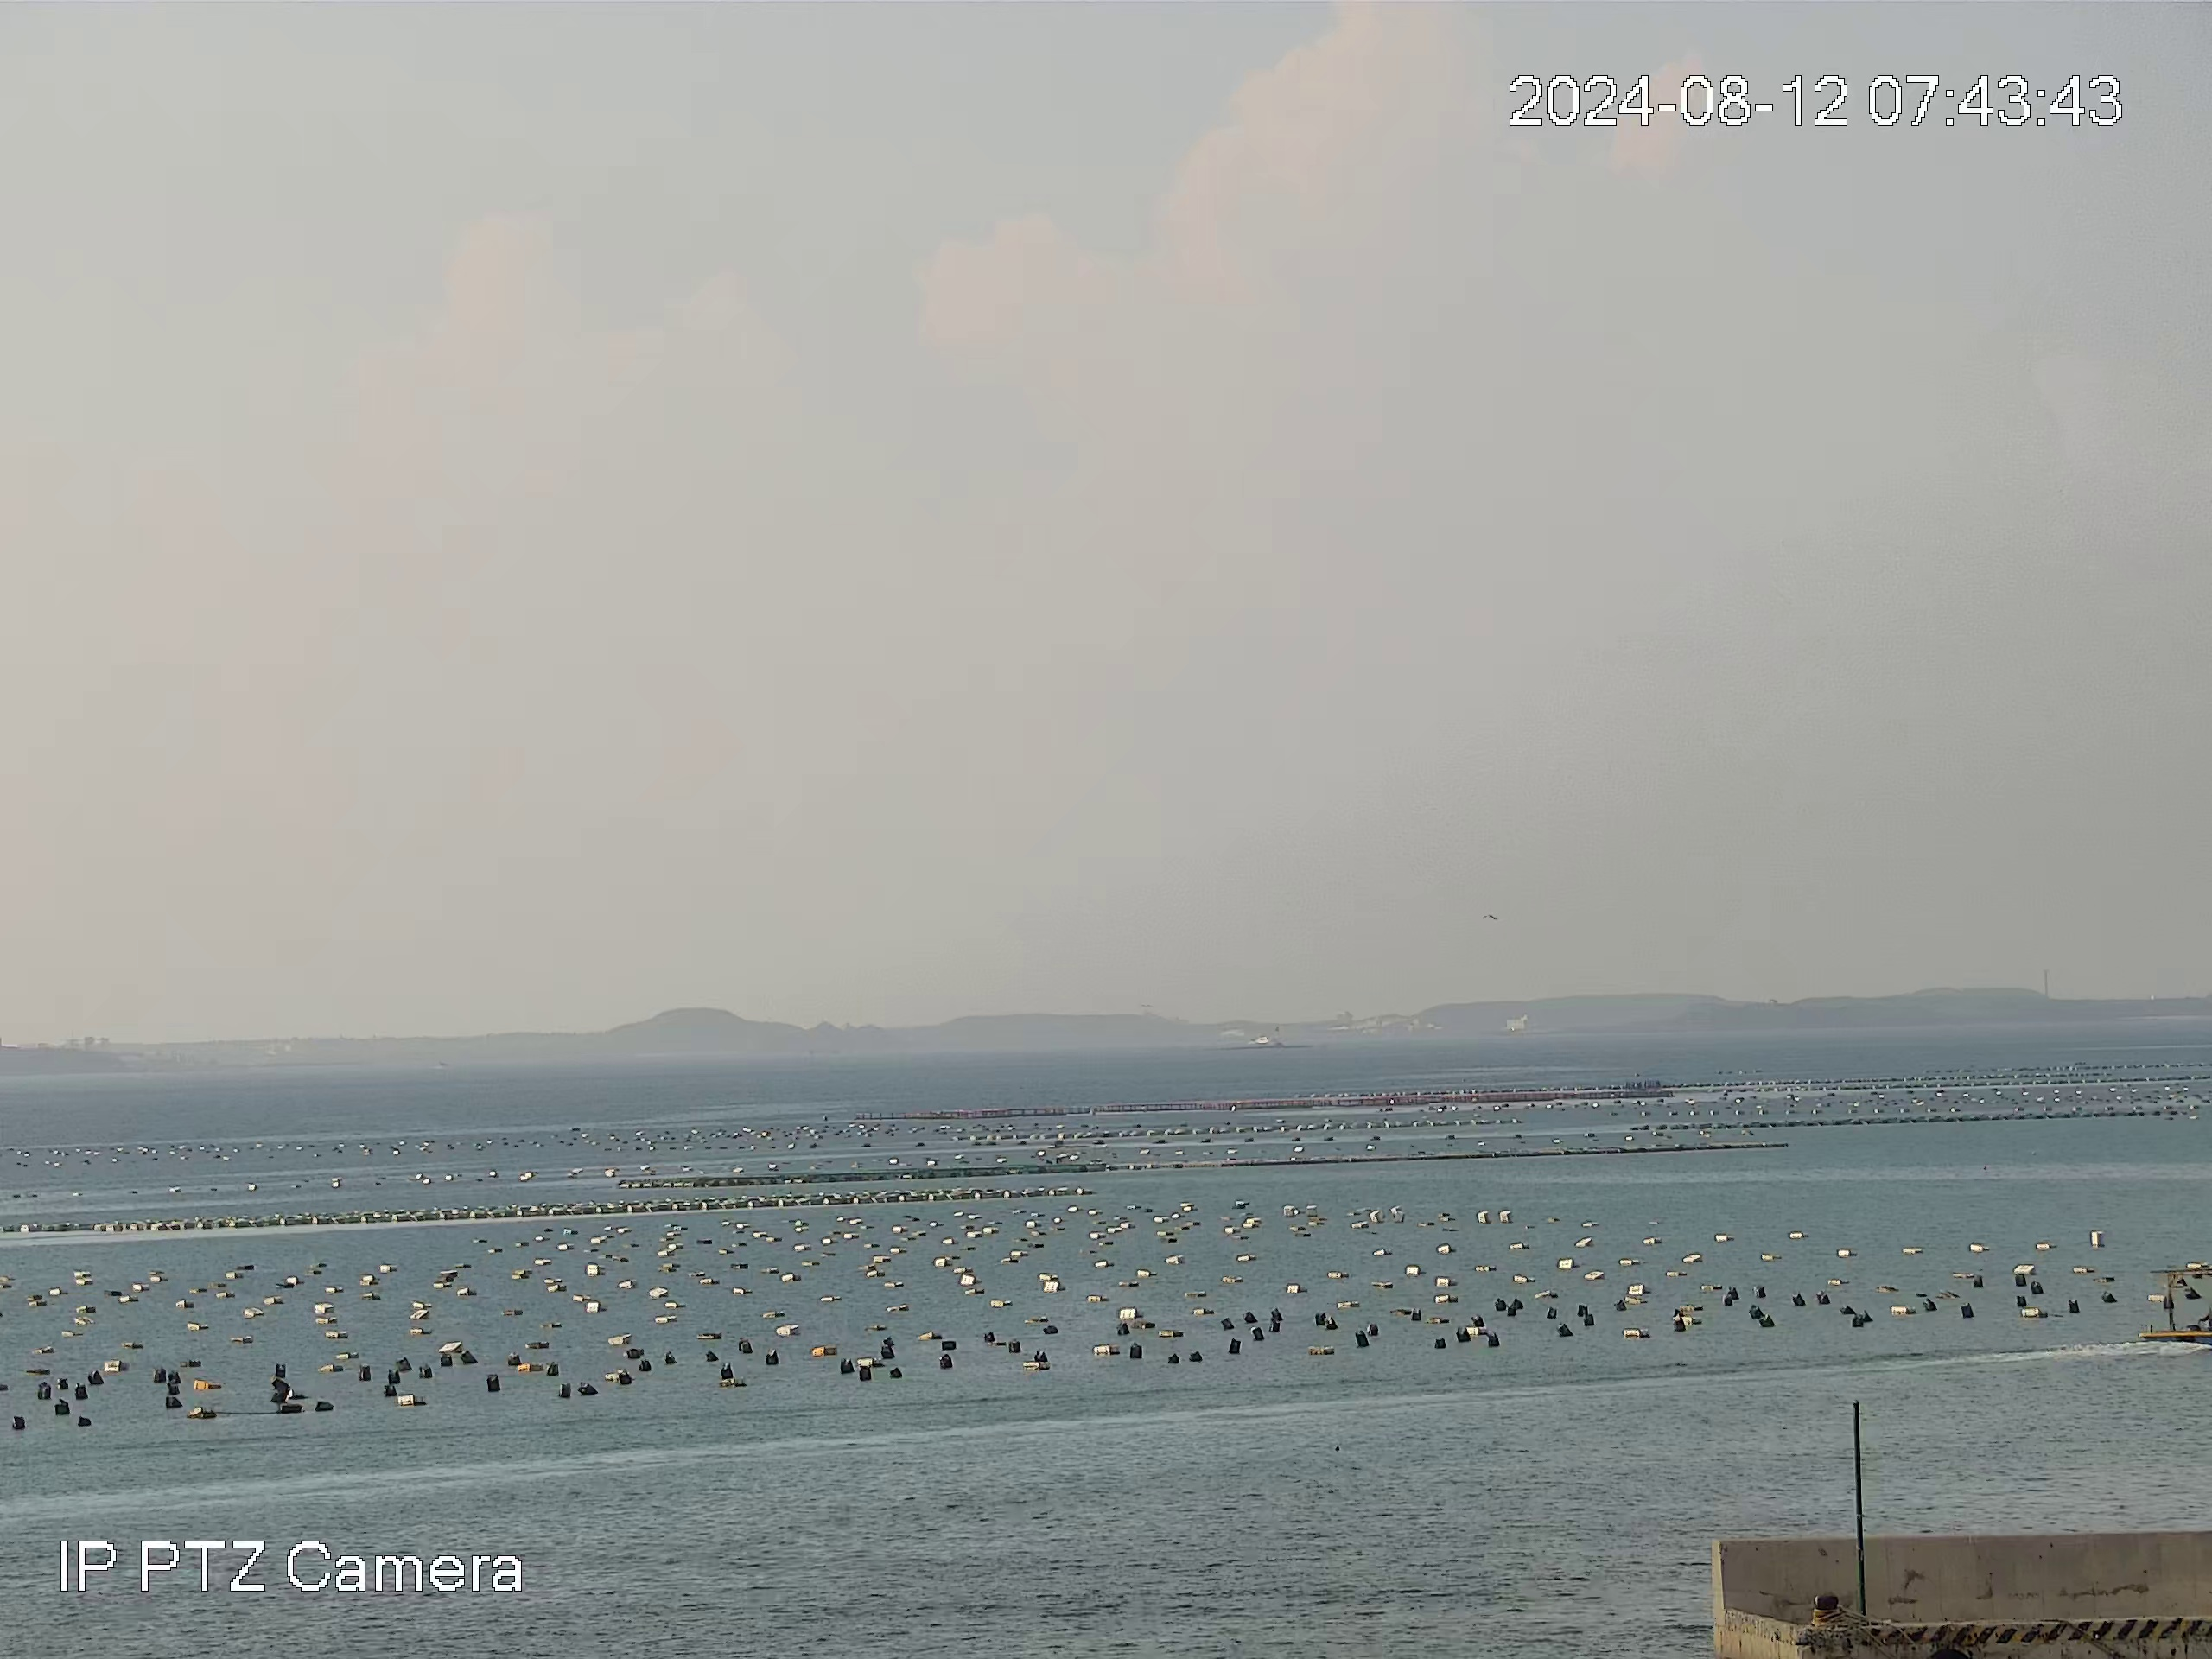boat: (2137, 1251, 2212, 1361)
